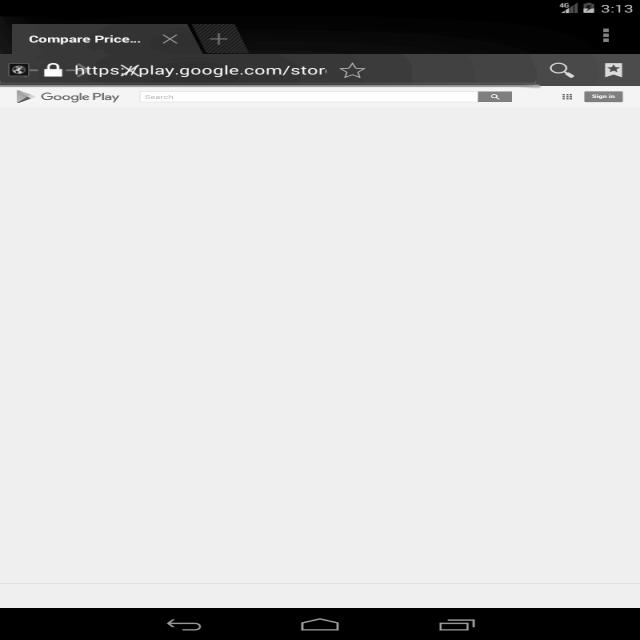Button: (578, 87, 628, 105)
EditText: (134, 88, 523, 106)
ImageButton: (541, 61, 579, 81), (598, 59, 628, 80), (596, 25, 618, 48)
TextView: (70, 60, 334, 76), (21, 29, 134, 45)
